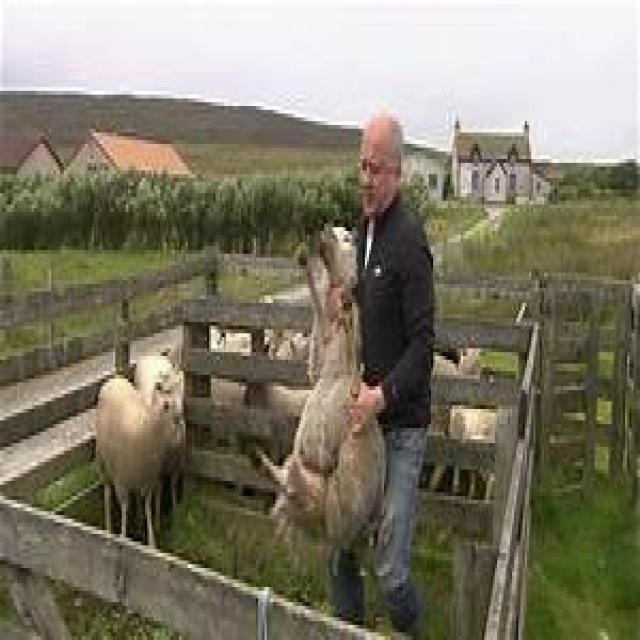sheep: (254, 220, 386, 580), (94, 348, 185, 546)
